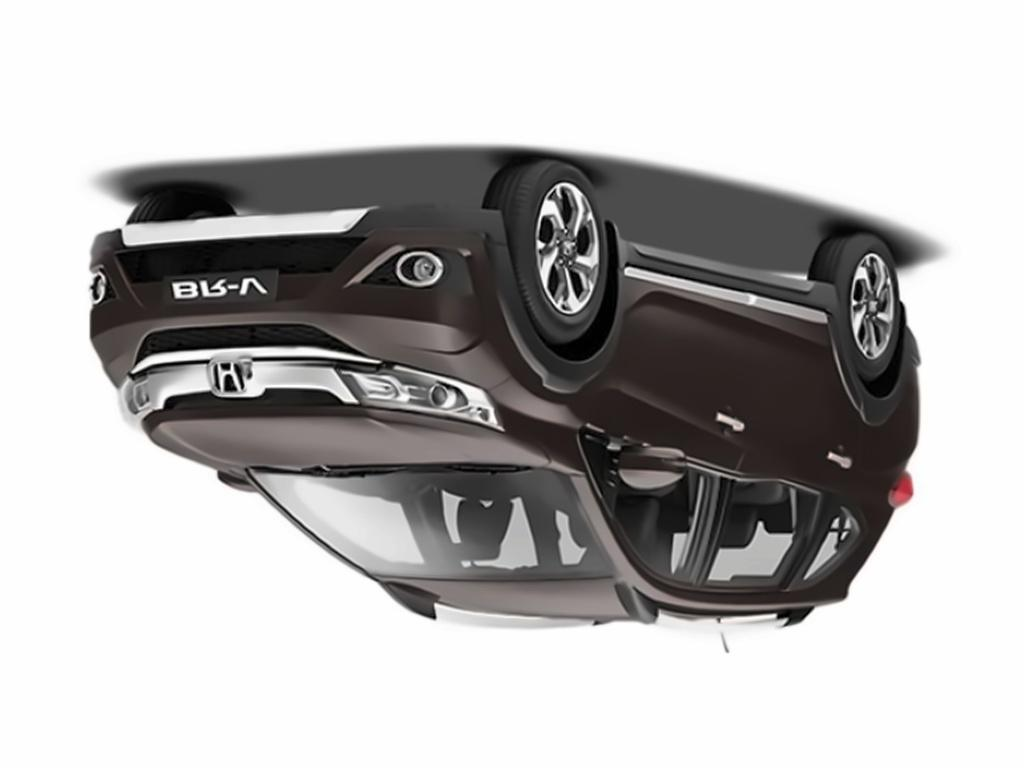Car hood: (139, 402, 553, 483)
Driver-s door - -F-R-: (587, 259, 749, 601)
Fender - -F-R-: (486, 250, 625, 483)
Fender - -R-R-: (849, 366, 908, 508)
Front bumper: (81, 204, 531, 385)
Headlight - -L-: (109, 366, 162, 432)
Headlight - -R-: (329, 355, 509, 436)
Passenger-s door - -R-R-: (710, 271, 861, 600)
Rear bumper: (891, 297, 930, 420)
Rear light - -R-: (886, 463, 921, 521)
Side bumper - -R-: (601, 218, 840, 323)
Side mirror - -L-: (209, 461, 267, 500)
Side mirror - -R-: (601, 430, 691, 495)
